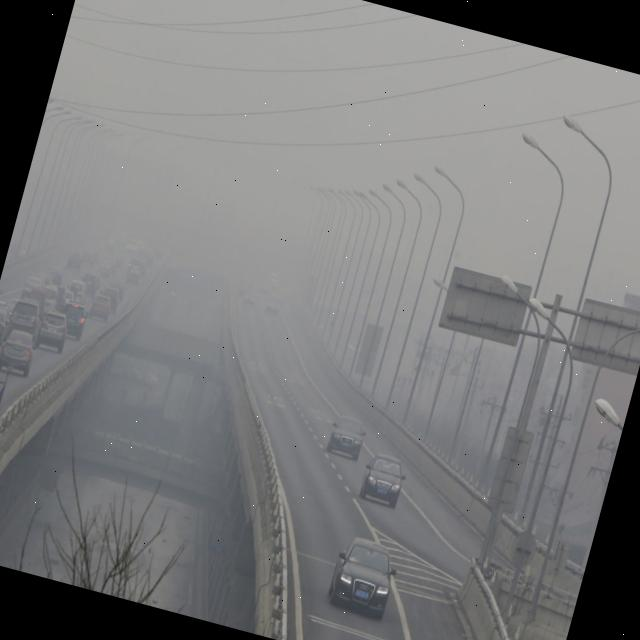car: (322, 534, 402, 618), (359, 450, 412, 508), (322, 412, 368, 462), (0, 309, 43, 356), (0, 326, 38, 379), (33, 307, 71, 353), (5, 296, 40, 334), (62, 302, 88, 343), (87, 290, 112, 320), (66, 280, 88, 304), (0, 305, 12, 348), (20, 274, 41, 298), (40, 284, 59, 310), (125, 258, 148, 278), (104, 288, 121, 314), (264, 294, 282, 316), (124, 265, 140, 286), (60, 292, 74, 308)
